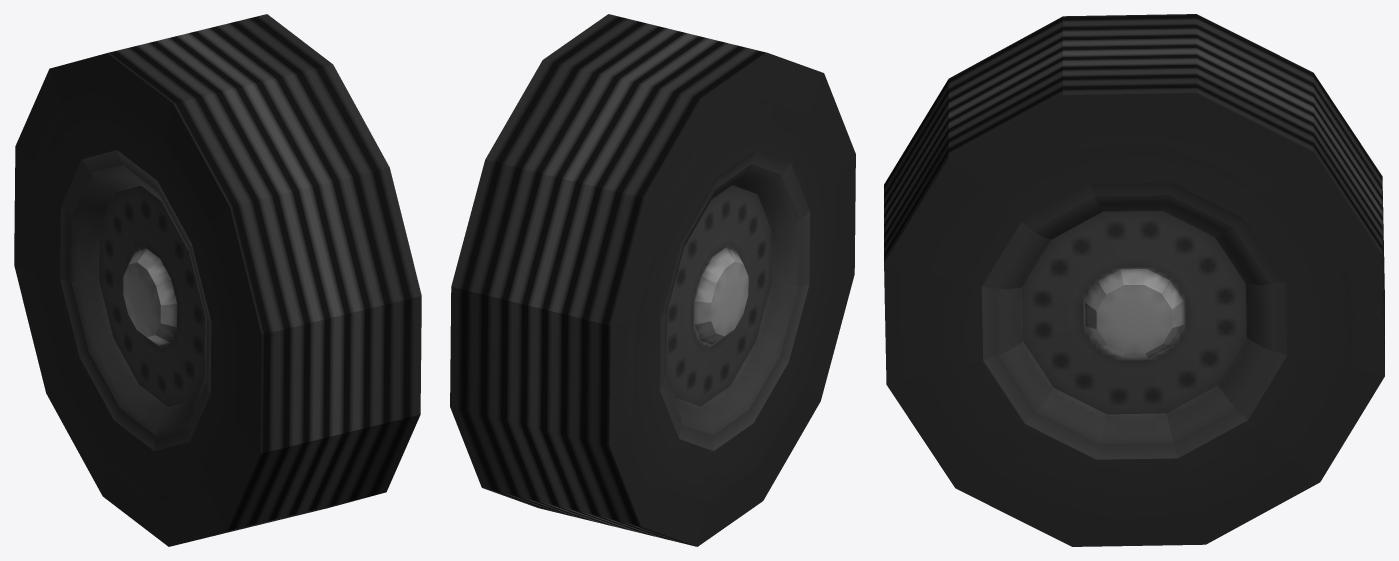
Rendered from GavrilGrandMarshalPoliceWheel.fbx.
3 renders of one model, left to right at view 1: azimuth 30°, elevation 25°; view 2: azimuth 150°, elevation 25°; view 3: azimuth 270°, elevation 25°, orthographic.
Parts seen in each view (by area): view 1: GavrilWheel4; view 2: GavrilWheel4; view 3: GavrilWheel4.
Boxes of the visible parts, x1,y1,x2,y2 form: GavrilWheel4: (14,14,421,546); GavrilWheel4: (450,14,855,546); GavrilWheel4: (884,14,1384,546).
Bounding box in the file's own units: 0.3644 × 0.9486 × 0.9486.
